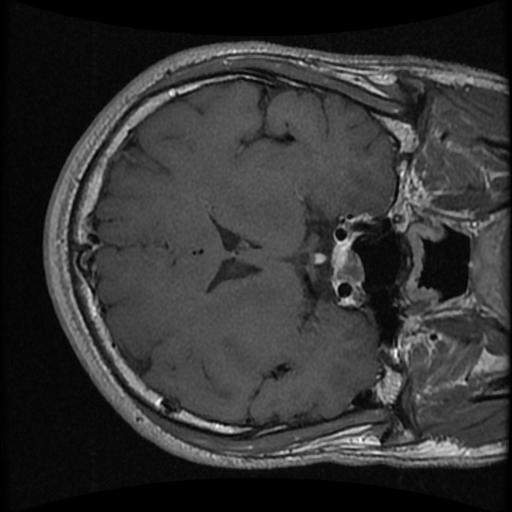pituitary tumour: (329, 241, 362, 285)
